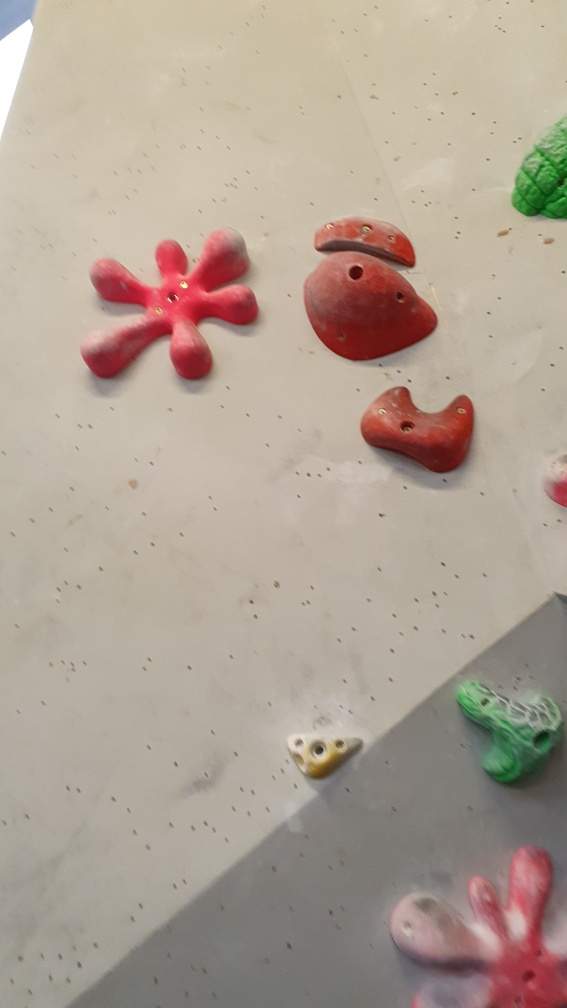Octopus Pinch: (386, 841, 564, 1004), (79, 225, 262, 381)
